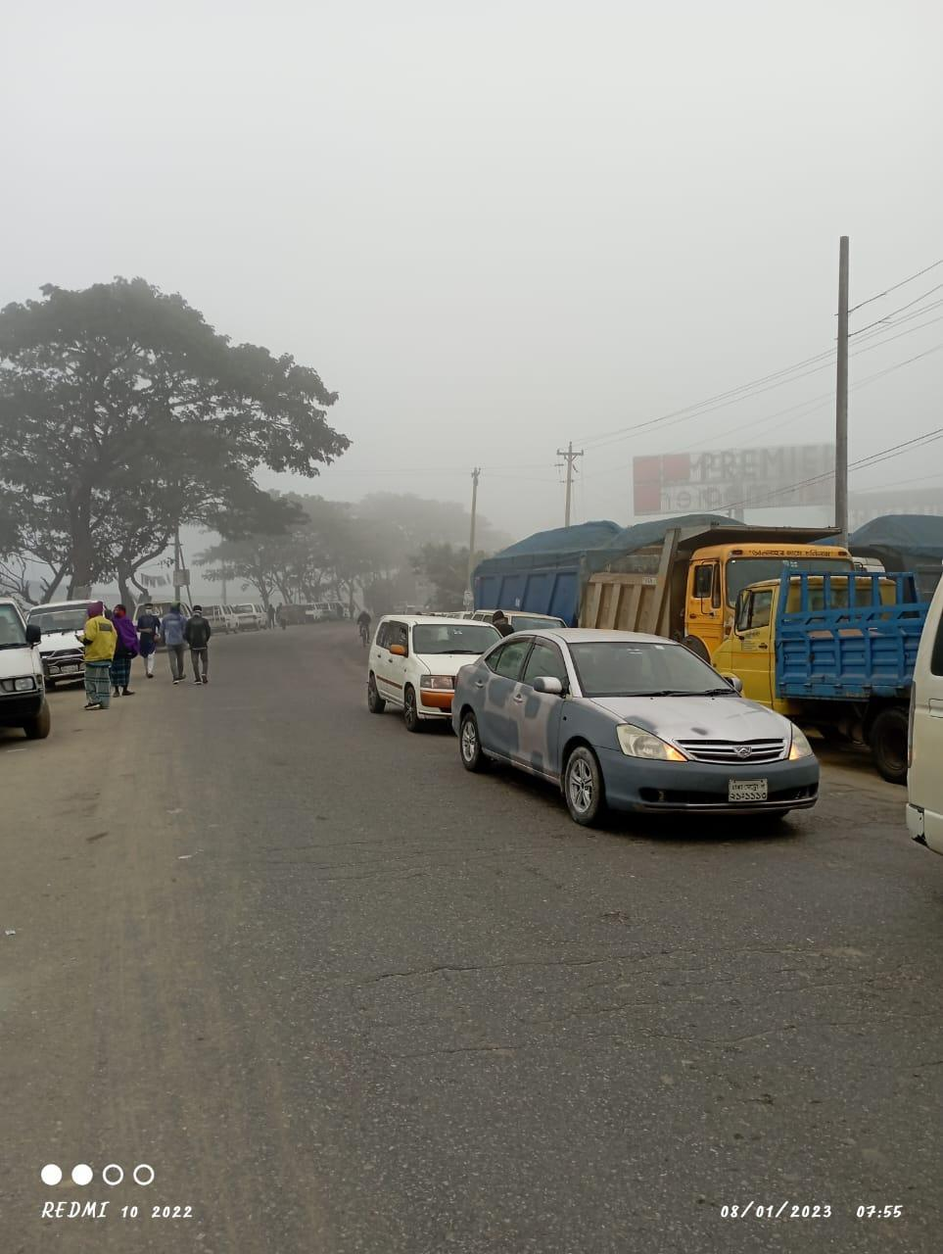Car: (448, 626, 832, 831), (362, 610, 458, 736), (1, 589, 60, 748), (27, 592, 111, 695)
Truck: (702, 546, 918, 768), (468, 502, 740, 658)
